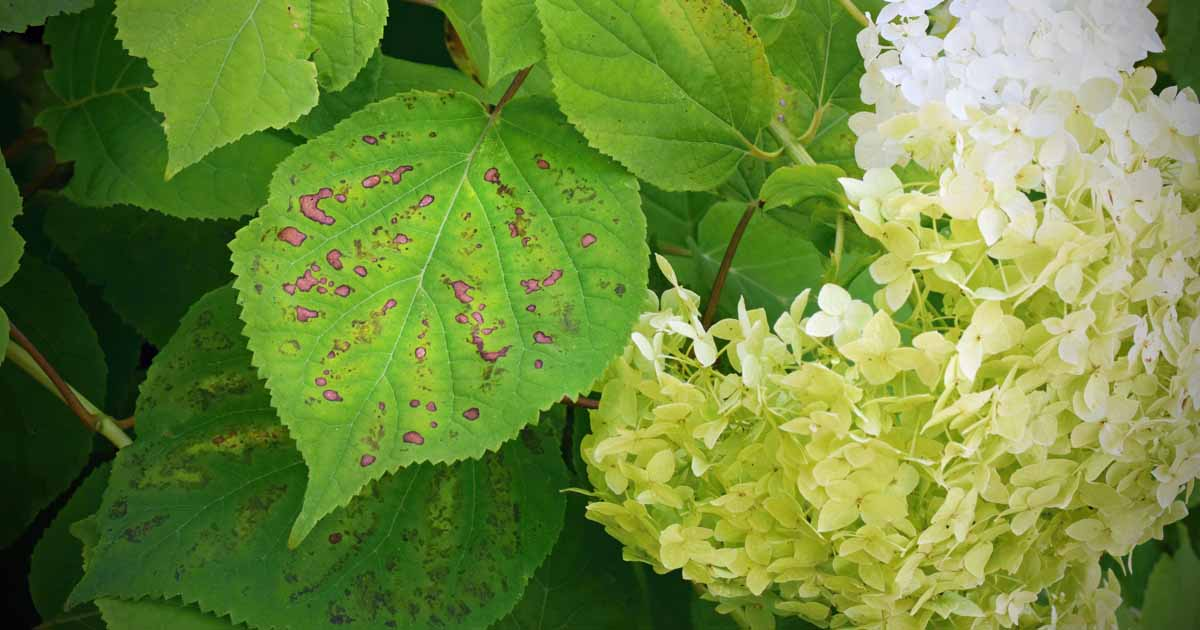unhealthy: (228, 101, 643, 467)
